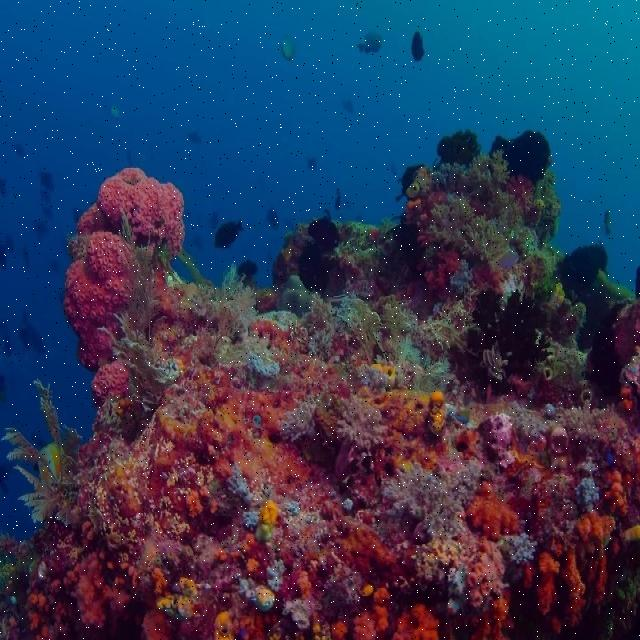aquatic plants: (0, 375, 83, 524)
fish: (212, 217, 245, 249), (308, 218, 341, 248), (357, 29, 384, 55), (411, 32, 425, 63), (281, 36, 297, 59)
sea-floor: (0, 126, 639, 639)
